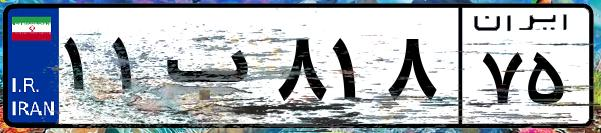1: (330, 28, 385, 110), (57, 26, 110, 100), (110, 28, 158, 98)
5: (525, 38, 570, 115)
7: (475, 38, 525, 113)
8: (270, 28, 330, 110), (385, 28, 445, 110)
ب: (158, 20, 270, 120)
